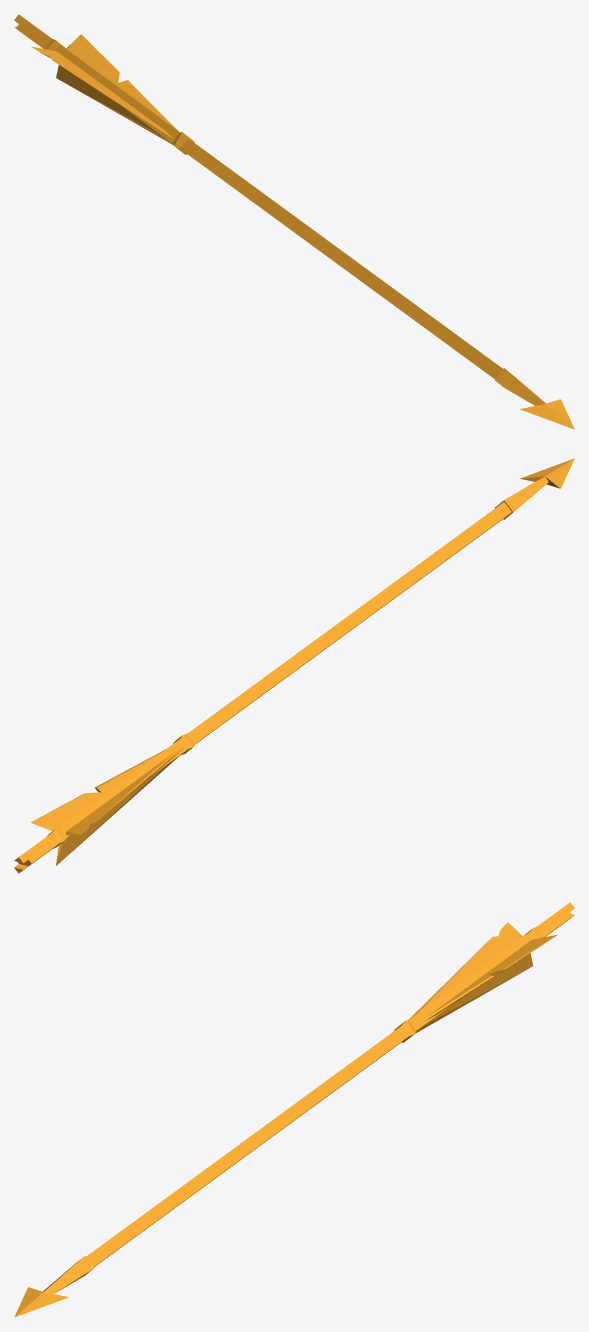
Rendered from SM_Arrow_A_Fantasy.fbx.
3 renders of one model, top to bottom at view 1: azimuth 30°, elevation 25°; view 2: azimuth 150°, elevation 25°; view 3: azimuth 330°, elevation 25°, orthographic.
Parts seen in each view (by area): view 1: arrow-a-fantasy; view 2: arrow-a-fantasy; view 3: arrow-a-fantasy.
Boxes of the visible parts, <box> form: arrow-a-fantasy: <box>14,14,574,429</box>; arrow-a-fantasy: <box>14,458,574,873</box>; arrow-a-fantasy: <box>14,902,574,1317</box>.
Bounding box in the file's own units: 0.054 × 0.0395 × 1.03.
